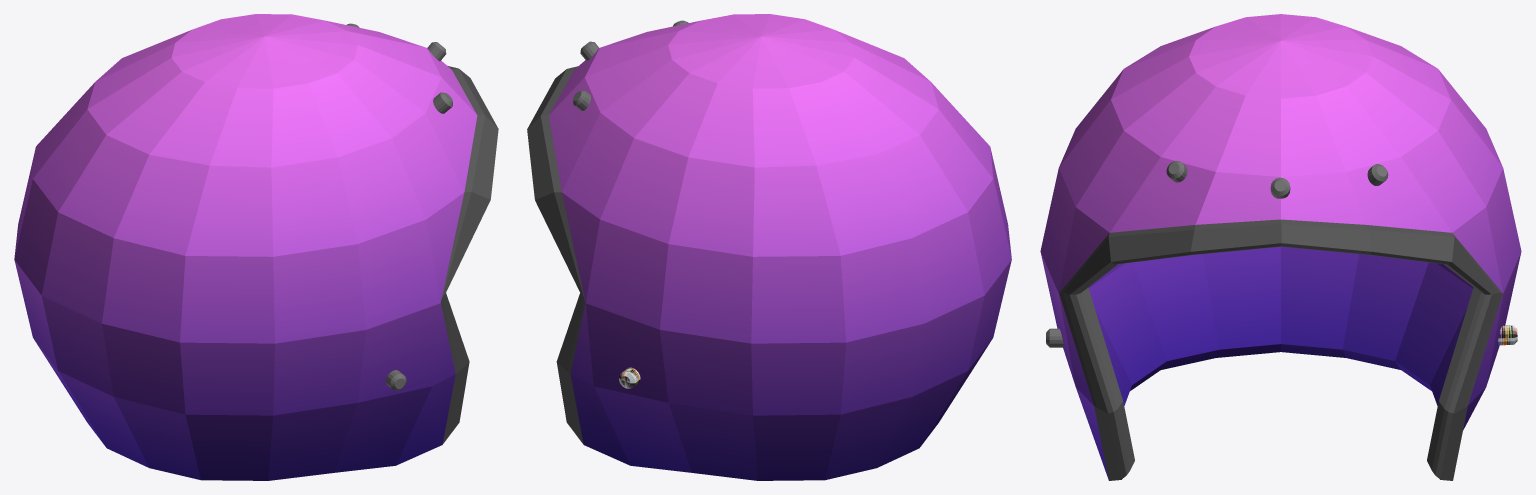
The model's file is capacete.fbx.
3 renders of one model, left to right at view 1: azimuth 30°, elevation 25°; view 2: azimuth 150°, elevation 25°; view 3: azimuth 270°, elevation 25°, orthographic. The views are drawn at different scales.
Parts seen in each view (by area): view 1: capacete; view 2: capacete; view 3: capacete.
Part boxes in pixels (box(x1,y1,x2,y2)): capacete: box(14, 14, 498, 480); capacete: box(527, 14, 1011, 480); capacete: box(1040, 14, 1521, 480).
Size of the model in its own units: 71.4 by 61.75 by 65.96.
